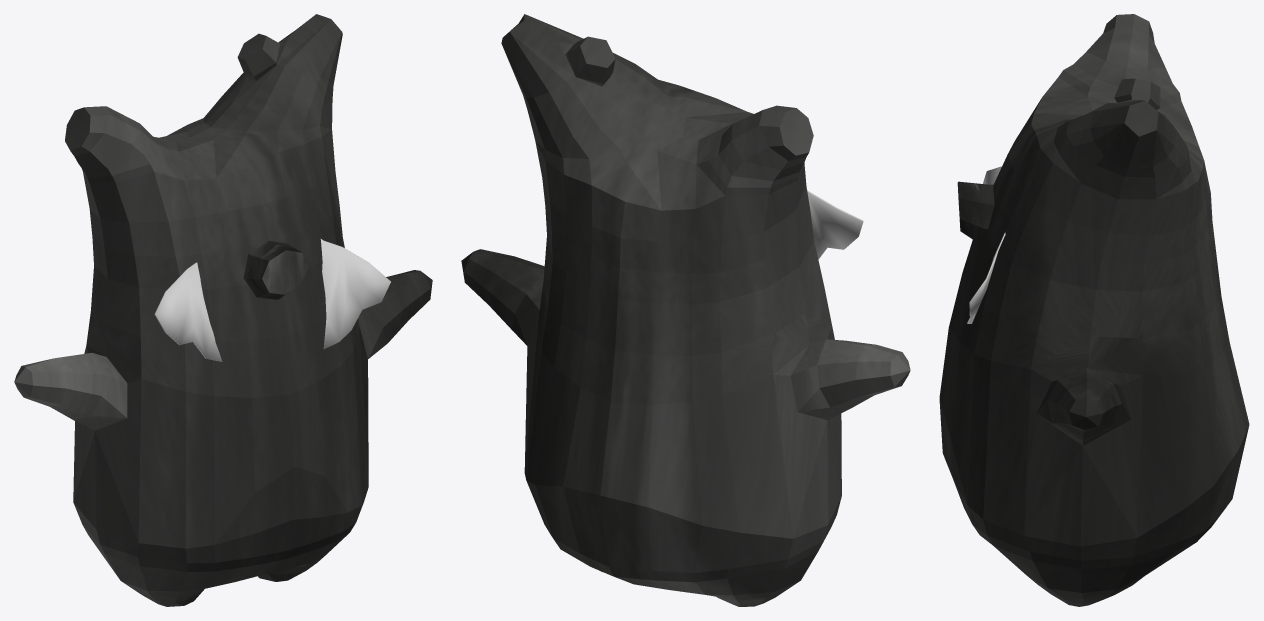
The model's file is frame_0032.obj.
3 renders of one model, left to right at view 1: azimuth 30°, elevation 25°; view 2: azimuth 150°, elevation 25°; view 3: azimuth 270°, elevation 25°, orthographic. The views are drawn at different scales.
Parts seen in each view (by area): view 1: korok, leaf, nose; view 2: korok, leaf; view 3: korok, nose, leaf.
Part boxes in pixels (x1,y1,x2,y2): korok: [14, 14, 432, 606]; leaf: [154, 239, 390, 361]; nose: [243, 240, 308, 299]; korok: [461, 14, 910, 606]; leaf: [807, 190, 863, 259]; korok: [939, 14, 1249, 606]; nose: [957, 181, 994, 243]; leaf: [967, 166, 1005, 323].
Bounding box in the file's own units: 1.86 × 2.23 × 1.17.
